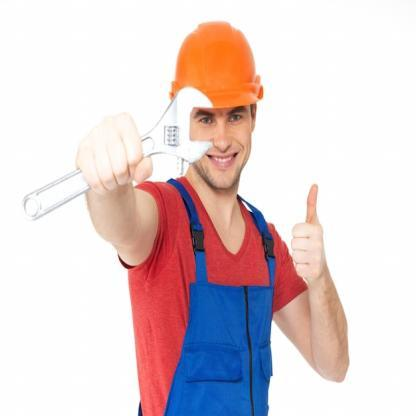thumb_up: (290, 179, 330, 289)
